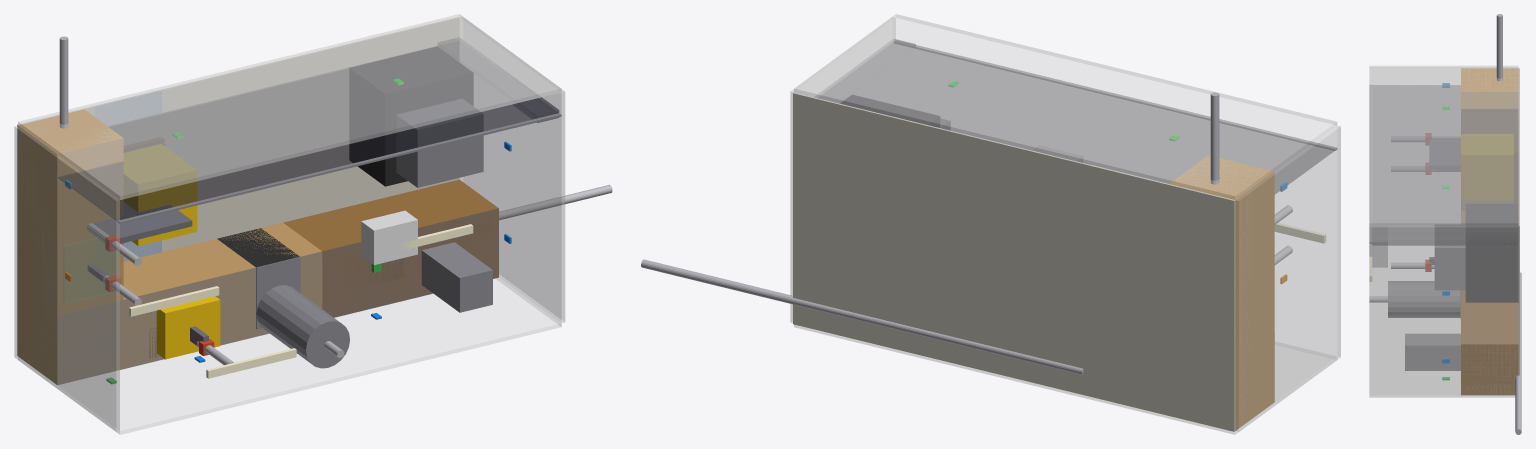
File: woodshop_layout.obj
The picture shows the model from 3 angles, left to right: view 1: azimuth 30°, elevation 25°; view 2: azimuth 150°, elevation 25°; view 3: azimuth 270°, elevation 25°; orthographic projection. The views are drawn at different scales.
Visible parts, largest first — view 1: Wall_Front, Curtain_Closed, Floor, Wall_Left, Wall_Back, L_Bench_Top_Leg, L_Bench_Left_Leg, Wall_Right, Miter_LongStock_Support_Ghost, Existing_3x8_Workbench, Laser_Rolling_Table, Laser_Enclosure (+16 smaller); view 2: Floor, Wall_Front, Curtain_Closed, Wall_Left, L_Bench_Left_Leg, Wall_Back, Dust_Main_BackWall, Wall_Right, L_Bench_Top_Leg, Curtain_Open_Stack, Curtain_Track, Laser_Rolling_Table (+1 smaller); view 3: Wall_Right, Wall_Front, Curtain_Closed, Wall_Back, Existing_3x8_Workbench, Laser_Rolling_Table, L_Bench_Left_Leg, Table_Saw_Body, Dust_Collector_Body, Drill_Press_Column, Laser_Enclosure, Curtain_Open_Stack (+11 smaller).
Boxes of the visible parts, bbox=[...] form: Wall_Front: bbox=[18, 14, 561, 199]; Curtain_Closed: bbox=[58, 46, 557, 221]; Floor: bbox=[17, 17, 459, 355]; Wall_Left: bbox=[14, 125, 119, 431]; Wall_Back: bbox=[18, 278, 561, 434]; L_Bench_Top_Leg: bbox=[18, 222, 322, 384]; L_Bench_Left_Leg: bbox=[18, 109, 123, 315]; Wall_Right: bbox=[459, 17, 565, 323]; Miter_LongStock_Support_Ghost: bbox=[86, 208, 498, 372]; Existing_3x8_Workbench: bbox=[283, 179, 498, 317]; Laser_Rolling_Table: bbox=[349, 46, 473, 186]; Laser_Enclosure: bbox=[396, 99, 483, 187]; Floor: bbox=[793, 92, 1235, 431]; Wall_Front: bbox=[794, 14, 1337, 199]; Curtain_Closed: bbox=[841, 48, 1334, 193]; Wall_Left: bbox=[1235, 125, 1340, 431]; L_Bench_Left_Leg: bbox=[1170, 155, 1274, 361]; Wall_Back: bbox=[794, 324, 1336, 434]; Dust_Main_BackWall: bbox=[641, 259, 1083, 374]; Wall_Right: bbox=[790, 17, 895, 322]; L_Bench_Top_Leg: bbox=[1235, 333, 1274, 430]; Curtain_Open_Stack: bbox=[815, 39, 915, 102]; Curtain_Track: bbox=[894, 40, 1337, 150]; Laser_Rolling_Table: bbox=[840, 95, 939, 127]; Wall_Right: bbox=[1369, 226, 1518, 396]; Wall_Front: bbox=[1369, 65, 1518, 225]; Curtain_Closed: bbox=[1372, 85, 1518, 242]; Wall_Back: bbox=[1369, 246, 1515, 397]; Existing_3x8_Workbench: bbox=[1461, 290, 1518, 395]; Laser_Rolling_Table: bbox=[1465, 204, 1518, 302]; L_Bench_Left_Leg: bbox=[1461, 68, 1518, 209]; Table_Saw_Body: bbox=[1461, 134, 1513, 199]; Dust_Collector_Body: bbox=[1388, 281, 1460, 317]; Drill_Press_Column: bbox=[1405, 333, 1460, 370]; Laser_Enclosure: bbox=[1434, 225, 1465, 290]; Curtain_Open_Stack: bbox=[1372, 232, 1518, 245].
Size of the model in its own units: 324 by 168 by 98.
